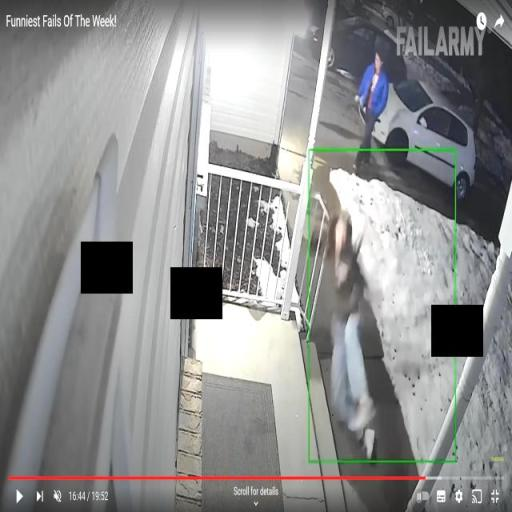Fall: (308, 209, 379, 465)
